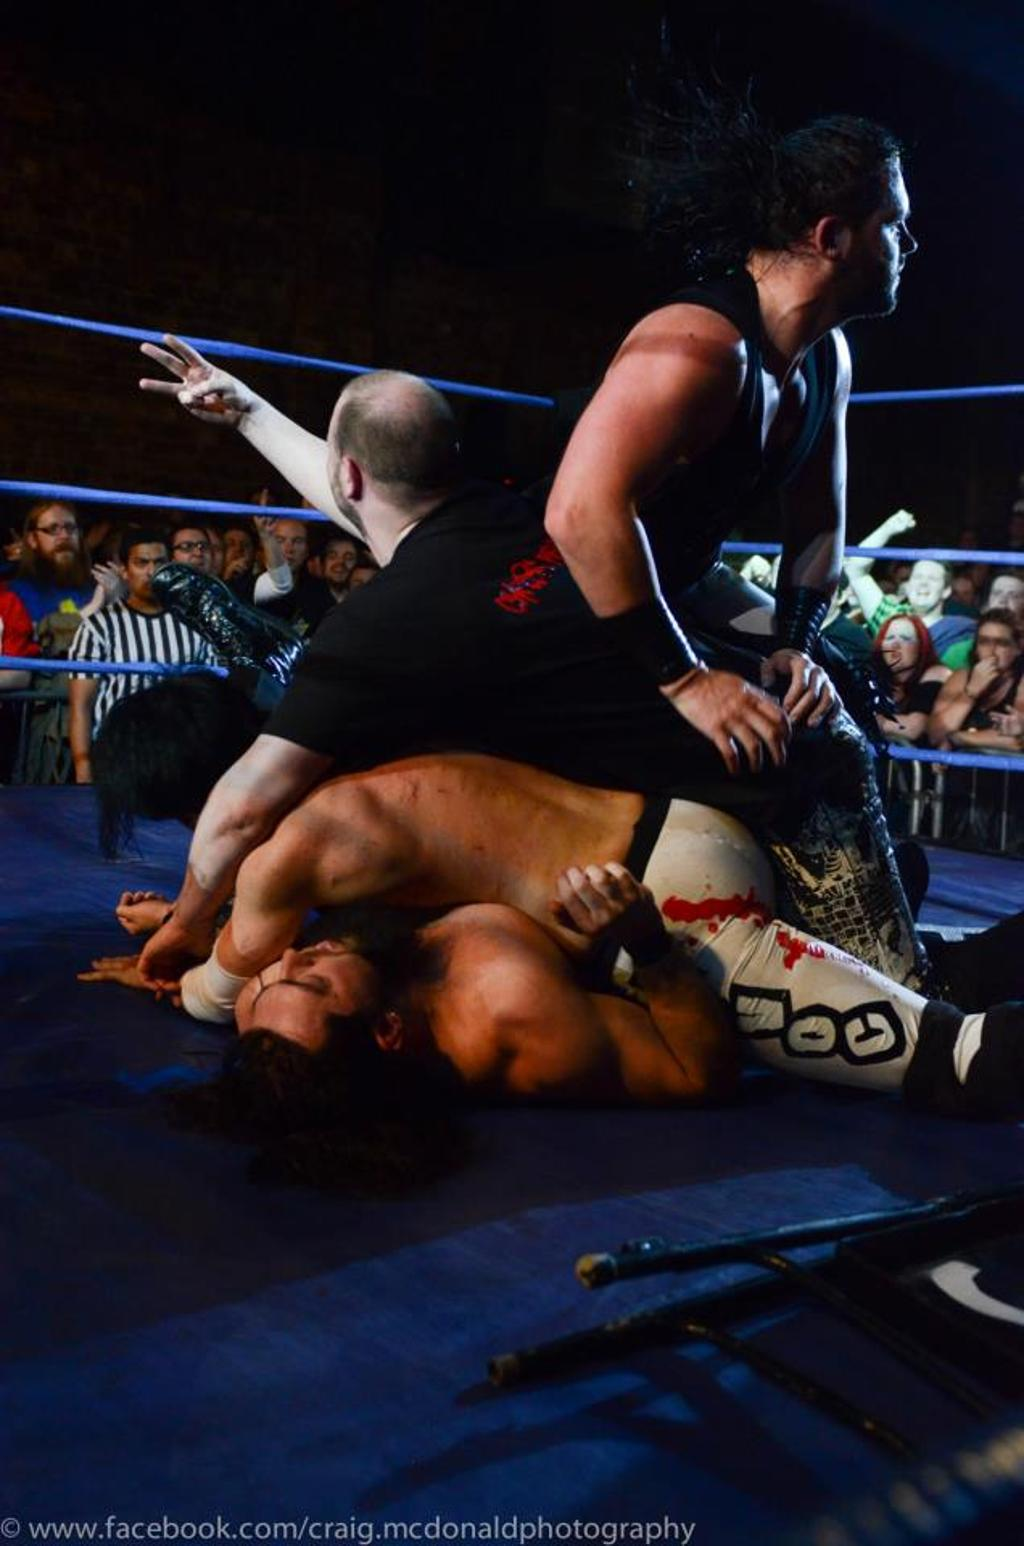face: (843, 173, 922, 318), (255, 940, 372, 1032), (37, 511, 78, 563), (129, 547, 168, 597), (883, 619, 919, 670), (978, 626, 1015, 673), (175, 533, 211, 576), (989, 580, 1024, 625), (273, 524, 306, 569), (908, 565, 943, 606), (197, 534, 223, 575), (328, 544, 356, 581), (225, 532, 254, 568), (950, 581, 973, 614), (971, 561, 991, 587), (961, 533, 977, 557)
